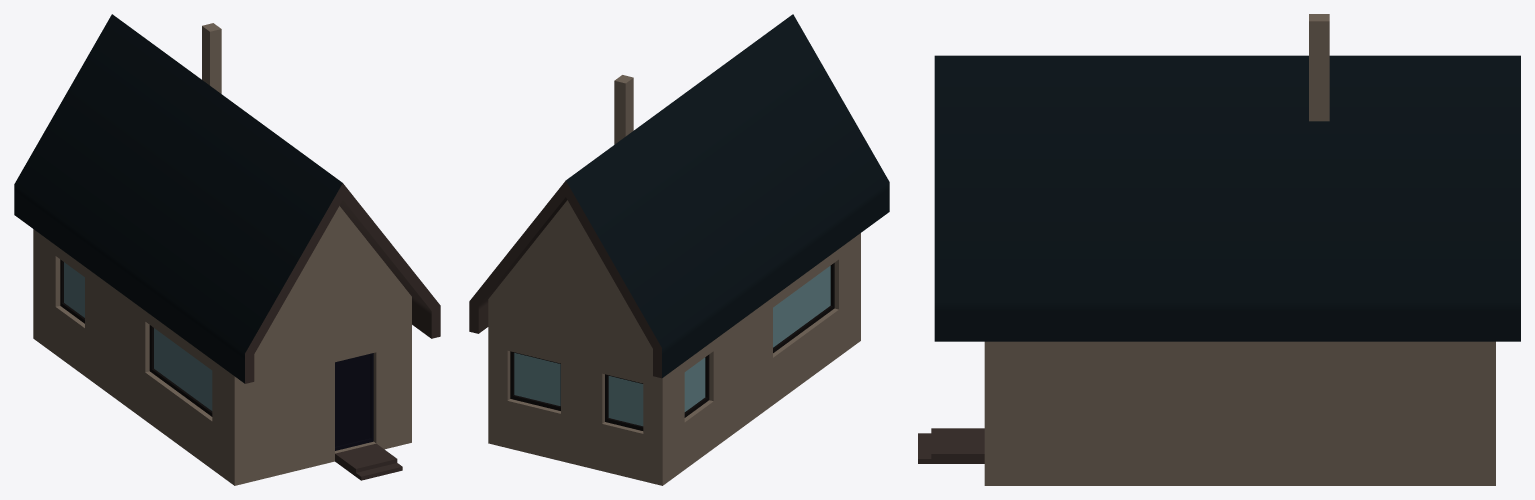
File: BuildingResident10.fbx
3 views of the same model, side by side, from view 1: azimuth 30°, elevation 25°; view 2: azimuth 150°, elevation 25°; view 3: azimuth 270°, elevation 25° (orthographic). The views are drawn at different scales.
Parts seen in each view (by area): view 1: BuildingResident10; view 2: BuildingResident10; view 3: BuildingResident10.
Boxes of the visible parts, box(x1,y1,x2,y2) form: BuildingResident10: box(14, 14, 440, 485); BuildingResident10: box(469, 14, 889, 485); BuildingResident10: box(918, 14, 1520, 485).
Bounding box in the file's own units: 11.95 × 19.59 × 25.13.
